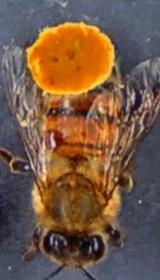varroa_mite: (39, 124, 70, 151)
